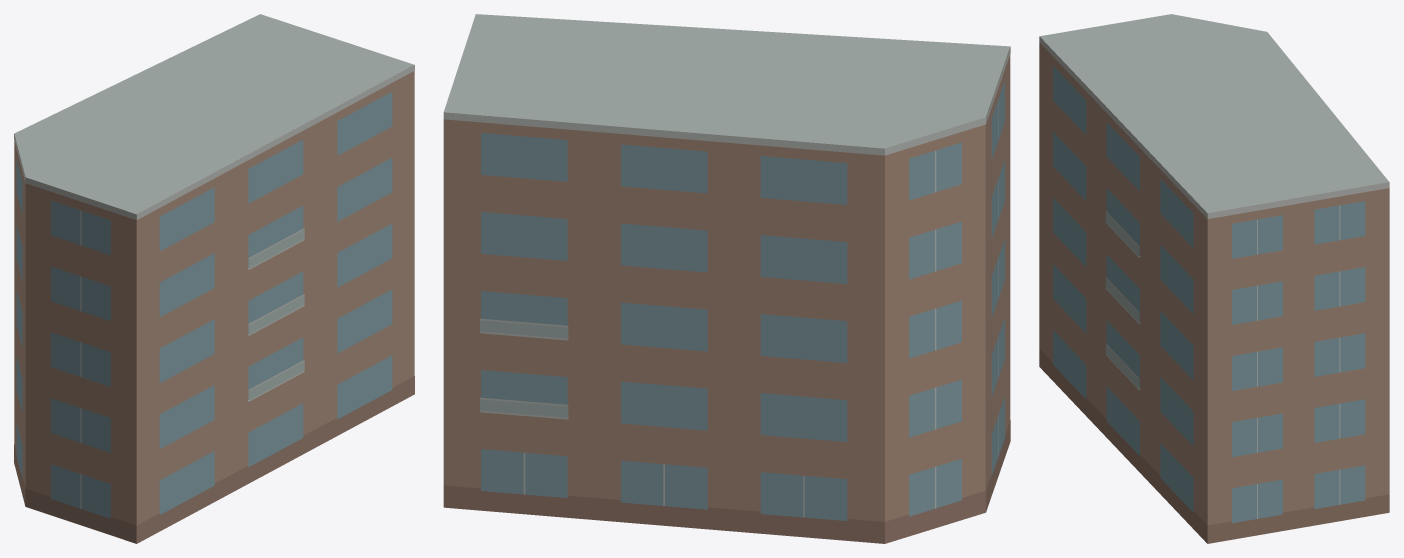
File: survey-upis-32851975.glb
3 views of the same model, side by side, from view 1: azimuth 30°, elevation 25°; view 2: azimuth 150°, elevation 25°; view 3: azimuth 270°, elevation 25° (orthographic). The views are drawn at different scales.
Parts seen in each view (by area): view 1: survey-upis-32851975.tmp; view 2: survey-upis-32851975.tmp; view 3: survey-upis-32851975.tmp.
Boxes of the visible parts, <box> form: survey-upis-32851975.tmp: <box>14,14,414,543</box>; survey-upis-32851975.tmp: <box>443,14,1010,543</box>; survey-upis-32851975.tmp: <box>1039,14,1389,543</box>.
Size of the model in its own units: 17.73 by 13.7 by 13.16.
